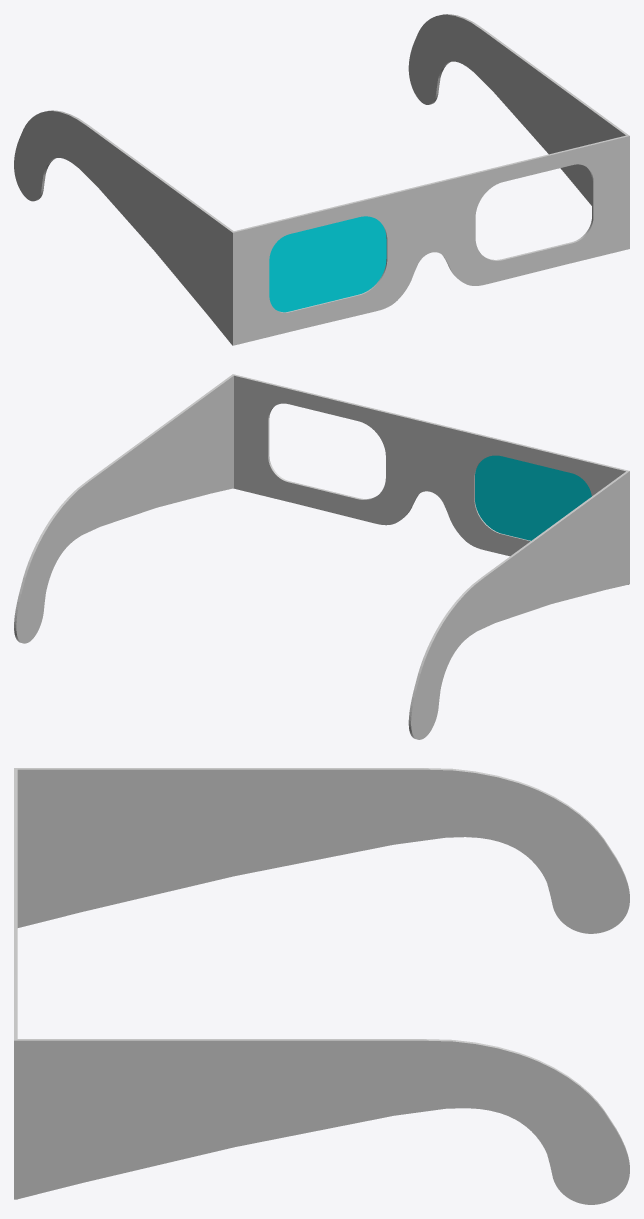
The model's file is new_3d-anaglyph_v19.gltf.
3 renders of one model, top to bottom at view 1: azimuth 30°, elevation 25°; view 2: azimuth 150°, elevation 25°; view 3: azimuth 270°, elevation 25°, orthographic. The views are drawn at different scales.
Parts seen in each view (by area): view 1: glasses, cyan; view 2: glasses, cyan; view 3: glasses.
Boxes of the visible parts, box(x1,y1,x2,y2) form: glasses: box(14, 14, 629, 345); cyan: box(269, 216, 386, 312); glasses: box(14, 374, 629, 739); cyan: box(475, 455, 591, 540); glasses: box(14, 768, 629, 1204).
Size of what is drawn, in the model's own units: 5.05 by 1.42 by 4.83.
